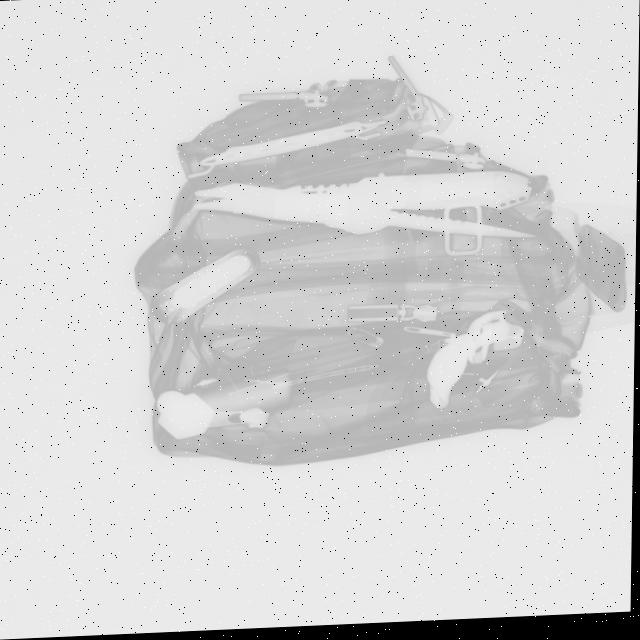knife: (220, 166, 533, 218)
